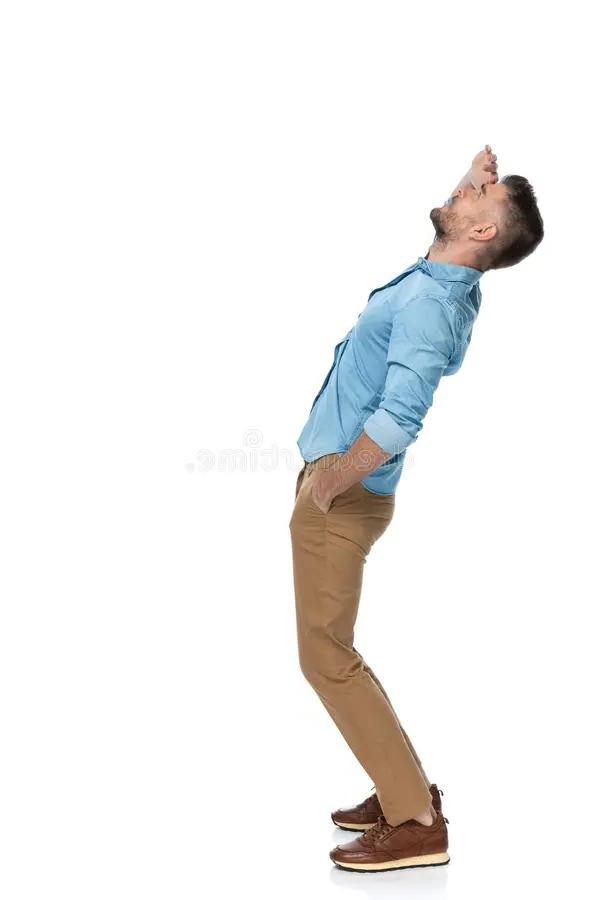long sleeve shirt: (299, 251, 488, 500)
trousers: (288, 454, 438, 828)
